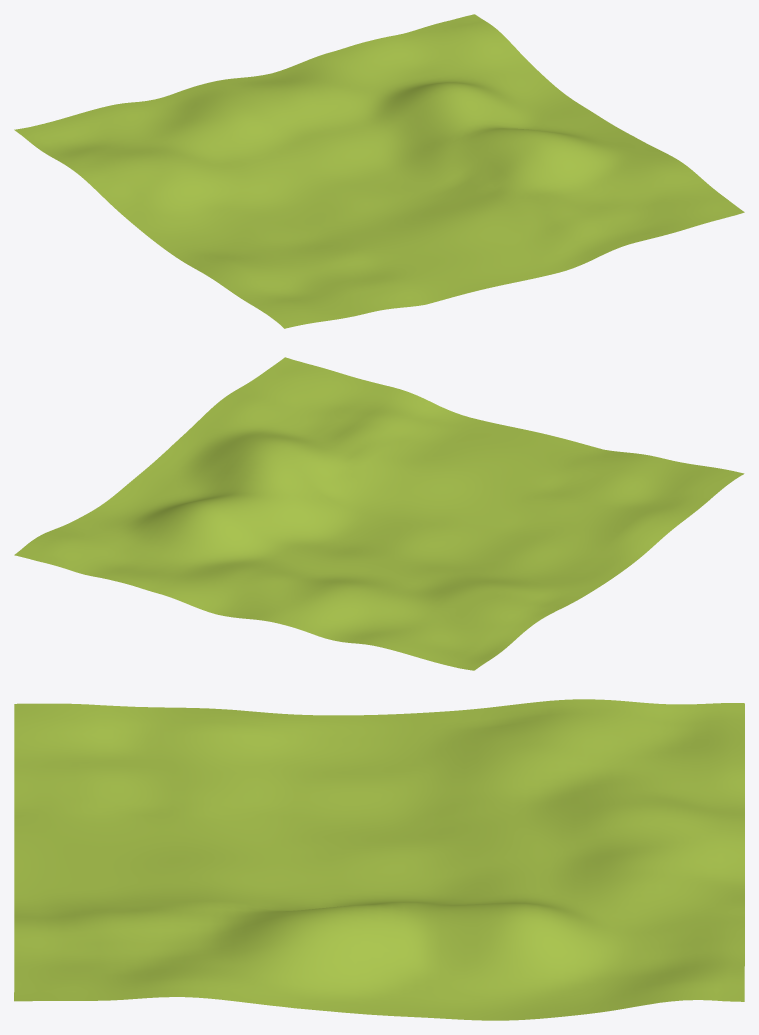
File: chemin_courve2.fbx
3 renders of one model, top to bottom at view 1: azimuth 30°, elevation 25°; view 2: azimuth 150°, elevation 25°; view 3: azimuth 270°, elevation 25°, orthographic. The views are drawn at different scales.
Visible parts, largest first — view 1: chemin_courve2; view 2: chemin_courve2; view 3: chemin_courve2.
Part boxes in pixels (left/top/right/bottom): chemin_courve2: left=14, top=14, right=744, bottom=328; chemin_courve2: left=14, top=357, right=744, bottom=670; chemin_courve2: left=14, top=699, right=744, bottom=1020.
Size of the model in its own units: 708 by 52.49 by 721.
